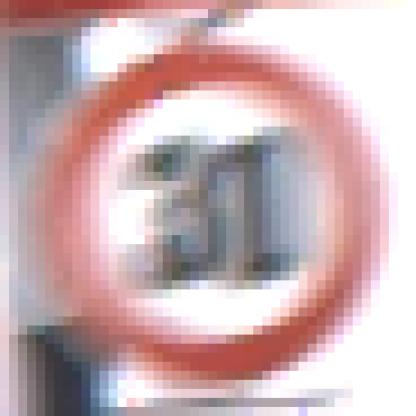Speed Limit 30: (59, 41, 370, 374)
